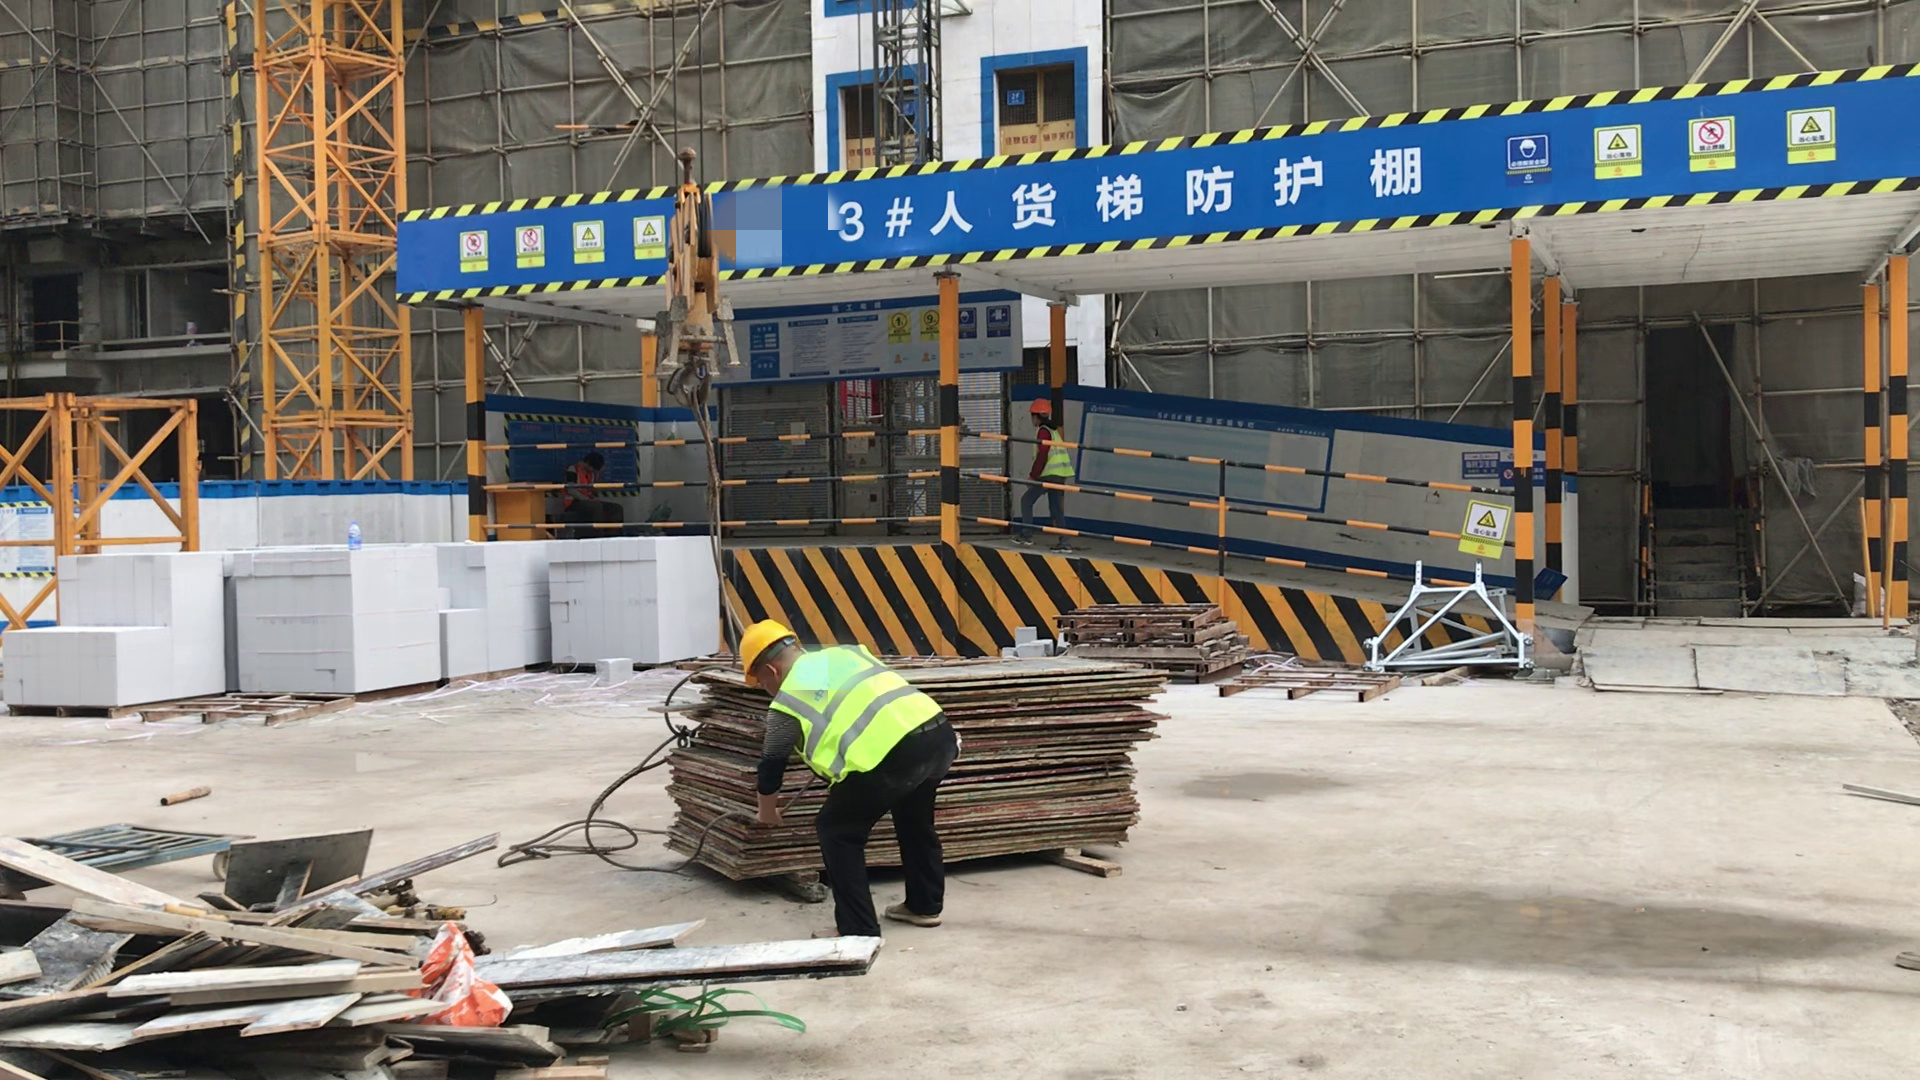board: (662, 655, 1163, 880)
brick: (232, 543, 550, 687), (1, 555, 234, 709), (543, 540, 725, 666)
ebox: (488, 480, 546, 541)
handcart: (1, 815, 255, 895)
helmet: (735, 613, 794, 694), (1028, 399, 1053, 420)
hook: (643, 140, 736, 415)
person: (735, 614, 960, 939), (1020, 396, 1071, 555), (559, 452, 627, 529)
vest: (795, 646, 942, 787), (1032, 426, 1074, 477), (565, 463, 592, 503)
